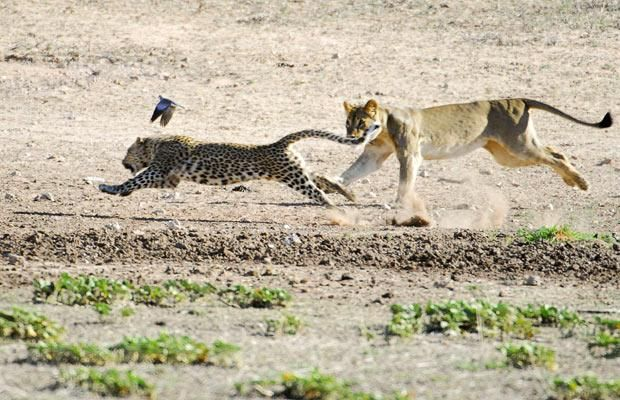leopard: (101, 130, 357, 209)
lion: (340, 95, 614, 196)
